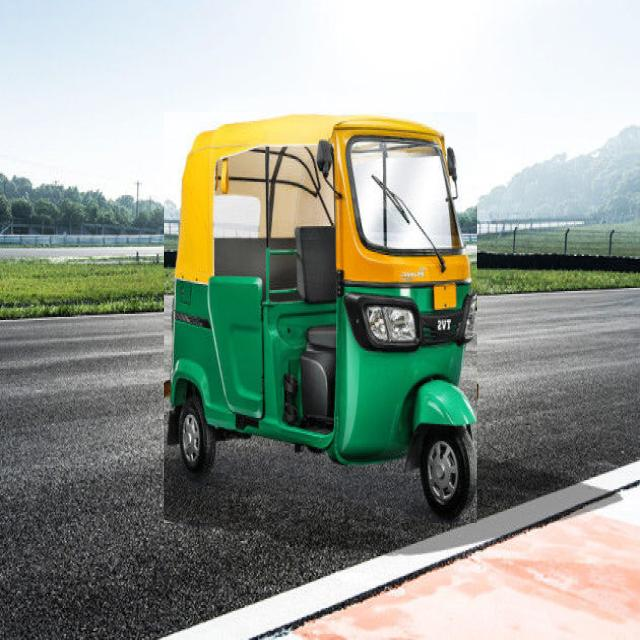autorickshaw: (164, 113, 477, 523)
